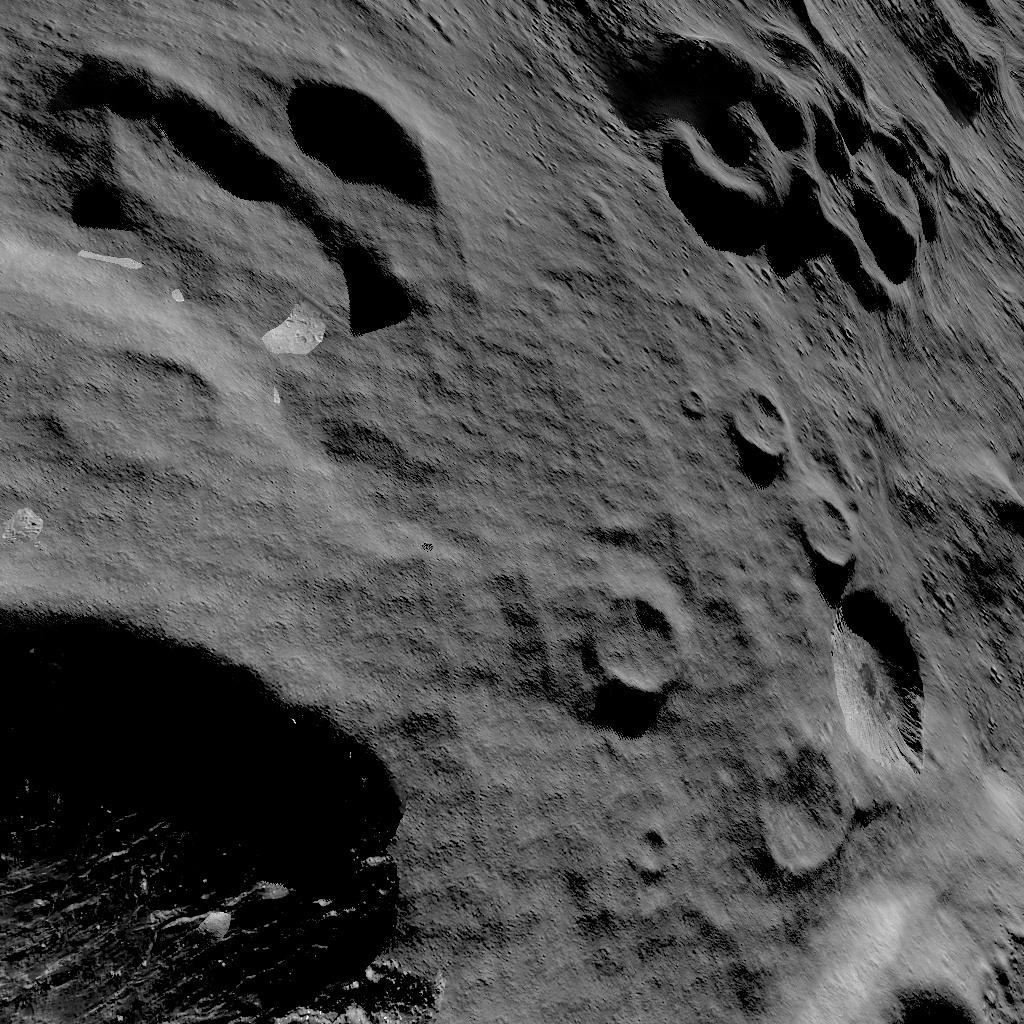Crater: (3, 598, 442, 1022), (36, 30, 445, 330), (637, 0, 1019, 302), (751, 584, 987, 910), (48, 350, 230, 491), (578, 566, 694, 713), (704, 378, 804, 466), (800, 486, 876, 571)
